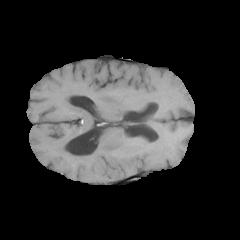glioma: (54, 138, 161, 182)
